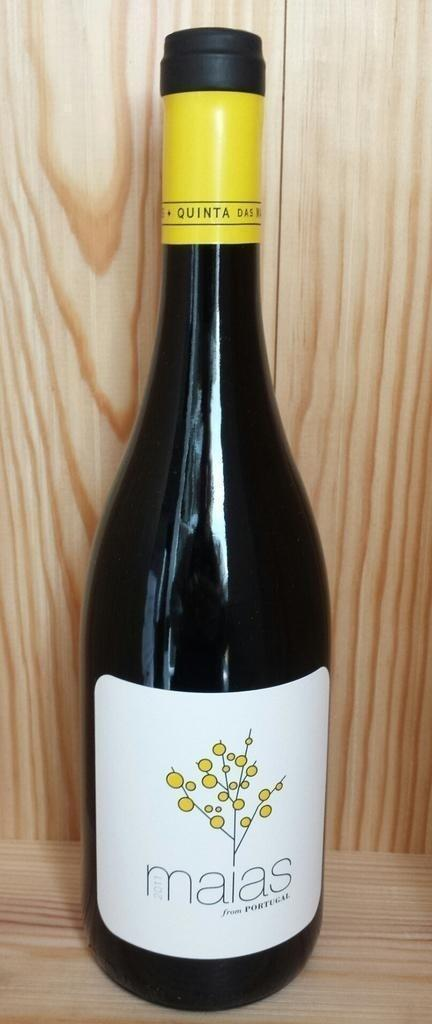bottle-glass: (77, 15, 337, 1013)
